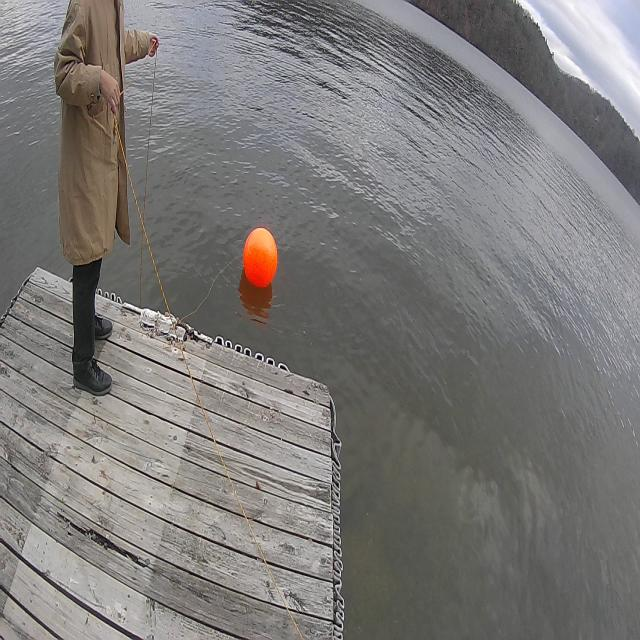Buoy: (235, 207, 283, 305)
